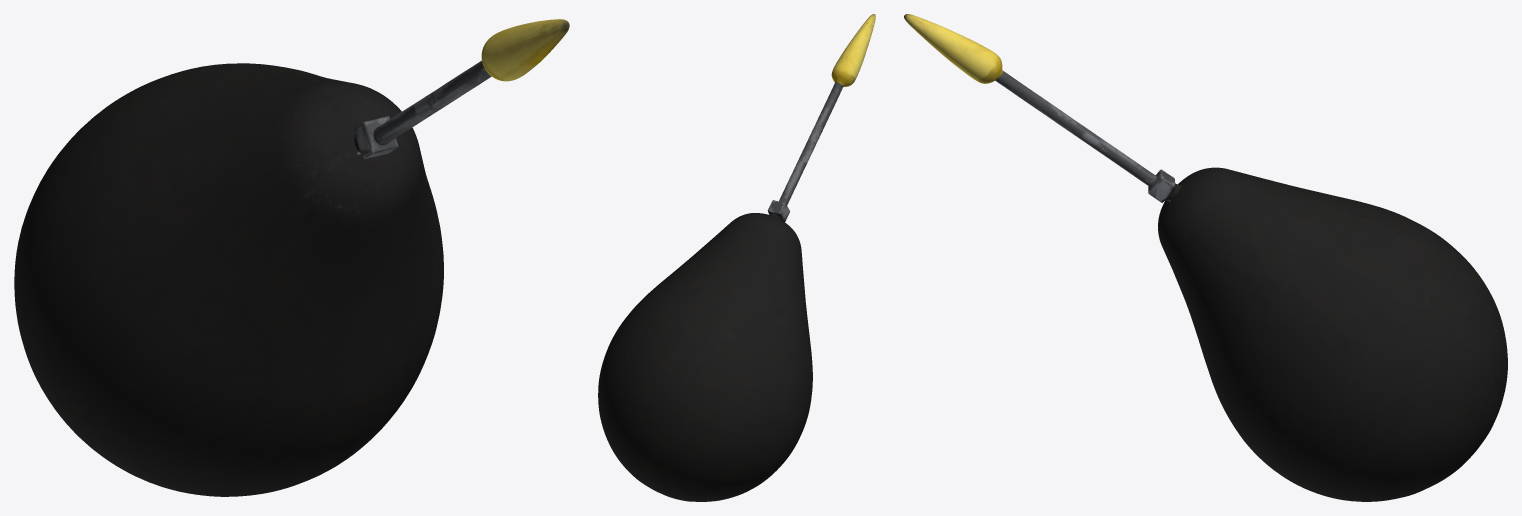
The model's file is float_slider.glb.
The picture shows the model from 3 angles, left to right: view 1: azimuth 30°, elevation 25°; view 2: azimuth 150°, elevation 25°; view 3: azimuth 270°, elevation 25°; orthographic projection. The views are drawn at different scales.
Visible parts, largest first — view 1: Mesh_0; view 2: Mesh_0; view 3: Mesh_0.
Boxes of the visible parts, x1,y1,x2,y2 form: Mesh_0: (14, 19, 569, 496); Mesh_0: (598, 14, 875, 501); Mesh_0: (904, 14, 1507, 501).
Bounding box in the file's own units: 0.8977 × 1.65 × 1.9.
Materials: 1 (1 with a texture image).
